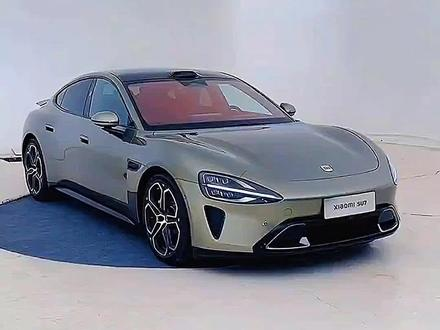su7: (15, 63, 401, 262)
